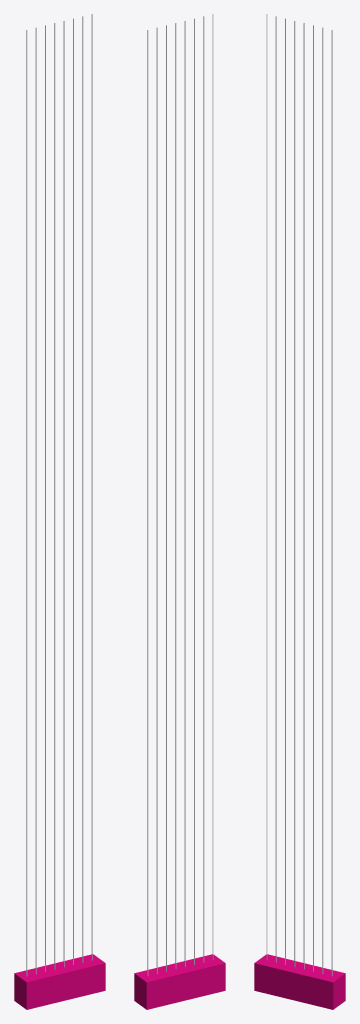
Rendered from laser.fbx.
3 views of the same model, side by side, from view 1: azimuth 30°, elevation 25°; view 2: azimuth 210°, elevation 25°; view 3: azimuth 330°, elevation 25° (orthographic).
Visible parts, largest first — view 1: NurbsPath, Cube.004; view 2: NurbsPath, Cube.004; view 3: NurbsPath, Cube.004.
Boxes of the visible parts, x1,y1,x2,y2 form: NurbsPath: (26, 14, 92, 976); Cube.004: (14, 954, 105, 1009); NurbsPath: (147, 14, 213, 975); Cube.004: (134, 954, 225, 1009); NurbsPath: (266, 14, 332, 975); Cube.004: (254, 954, 345, 1009).
Bounding box in the file's own units: 200 × 2360 × 54.87.
